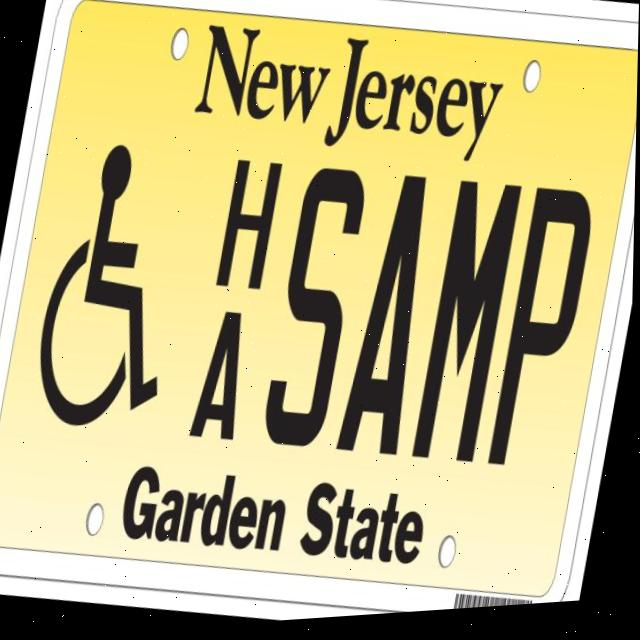symbol_of_access: (24, 130, 204, 451)
